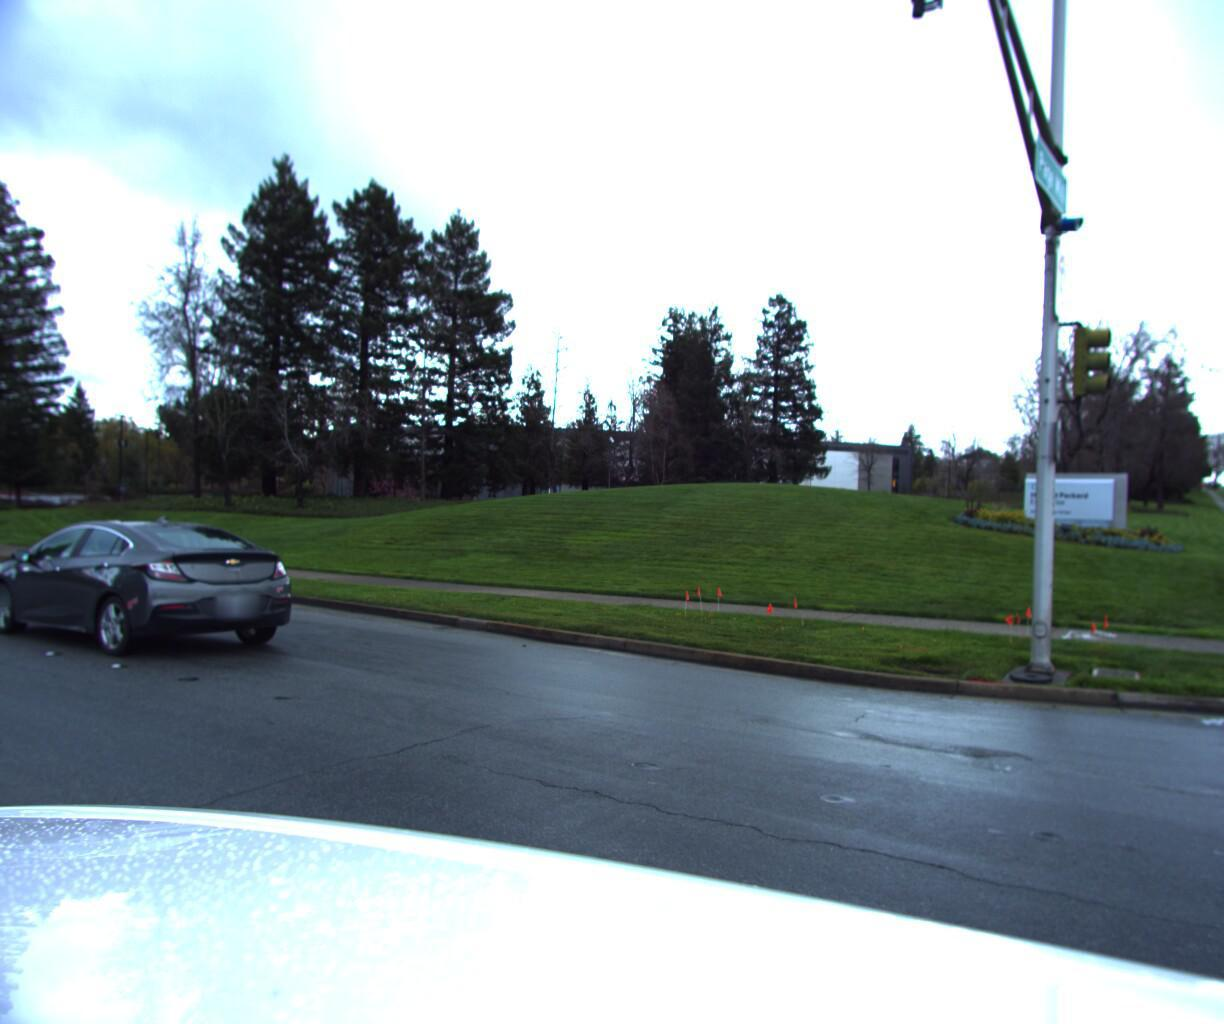car: (0, 504, 305, 671)
